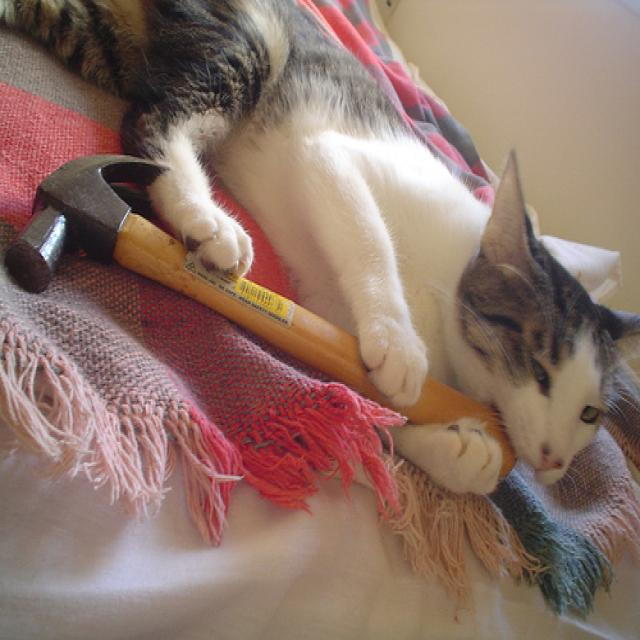hammer: (5, 120, 359, 409)
